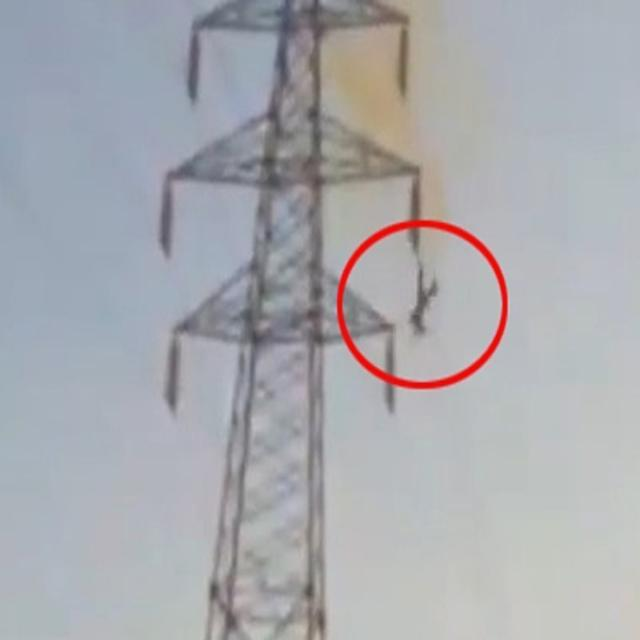non-critical vegetation: (161, 1, 393, 632)
